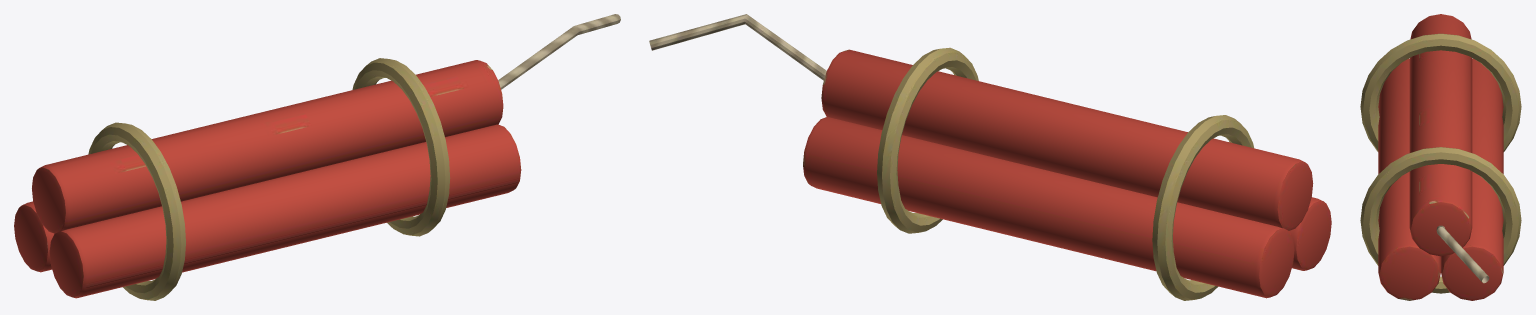
The model's file is dynamite.glb.
The picture shows the model from 3 angles, left to right: view 1: azimuth 30°, elevation 25°; view 2: azimuth 150°, elevation 25°; view 3: azimuth 270°, elevation 25°; orthographic projection. The views are drawn at different scales.
Visible parts, largest first — view 1: stick0, stick2, tape0.06, tape-0.06, stick1, fuse; view 2: stick1, stick2, tape-0.06, tape0.06, stick0, fuse; view 3: stick2, stick0, stick1, tape0.06, tape-0.06, fuse.
Boxes of the visible parts, box(x1,y1,x2,y2) form: stick0: box(49, 124, 521, 298); stick2: box(32, 60, 503, 233); tape0.06: box(352, 58, 450, 236); tape-0.06: box(88, 122, 185, 300); stick1: box(14, 201, 54, 272); fuse: box(498, 14, 620, 89); stick1: box(803, 117, 1294, 298); stick2: box(821, 49, 1313, 230); tape-0.06: box(1152, 115, 1253, 300); tape0.06: box(877, 47, 978, 233); stick0: box(1289, 197, 1331, 270); fuse: box(649, 14, 826, 80); stick2: box(1409, 14, 1472, 256); stick0: box(1378, 58, 1440, 300); stick1: box(1441, 58, 1503, 300); tape0.06: box(1360, 147, 1521, 293); tape-0.06: box(1360, 33, 1521, 151); fuse: box(1436, 225, 1489, 283).
Bounding box in the file's own units: 0.2711 × 0.072 × 0.072.
1 material, 1 textured.
